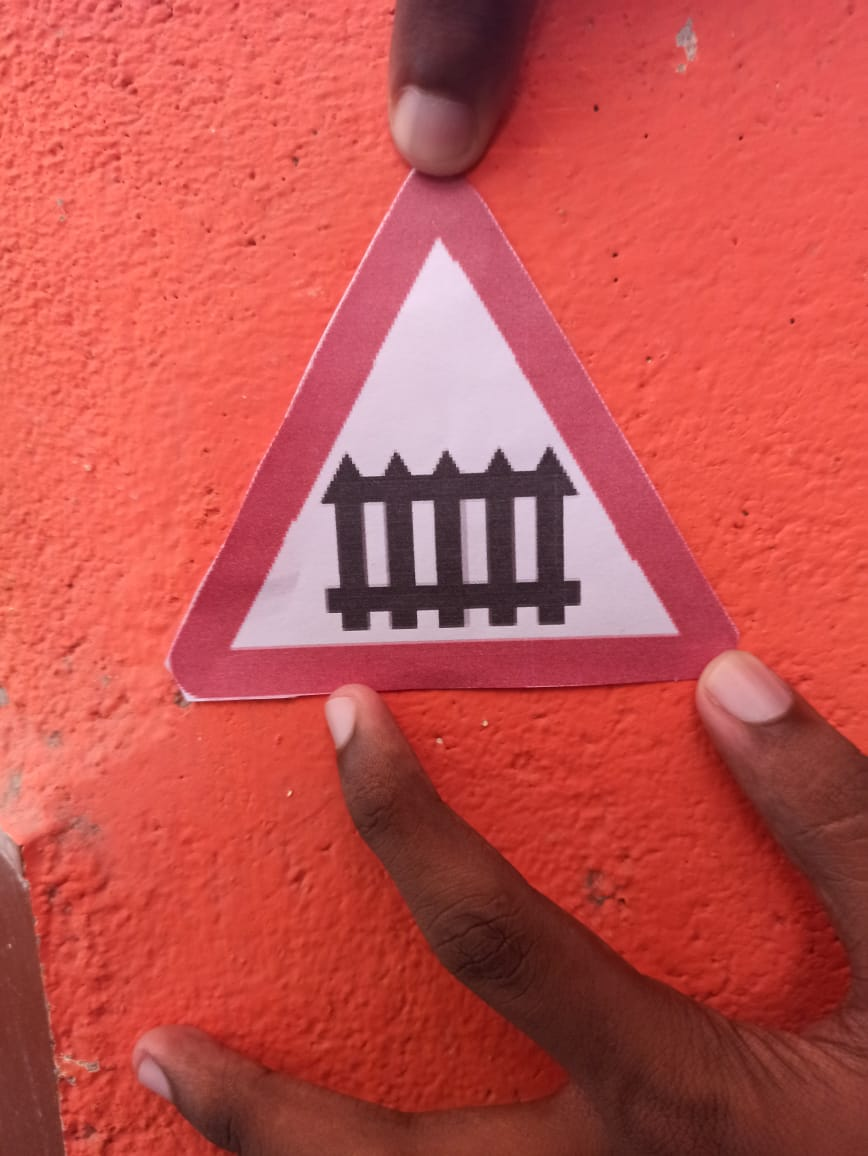GUARDED LEVEL CROSSING: (149, 153, 767, 701)
